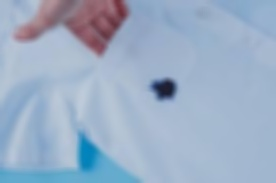ink: (151, 79, 176, 101)
